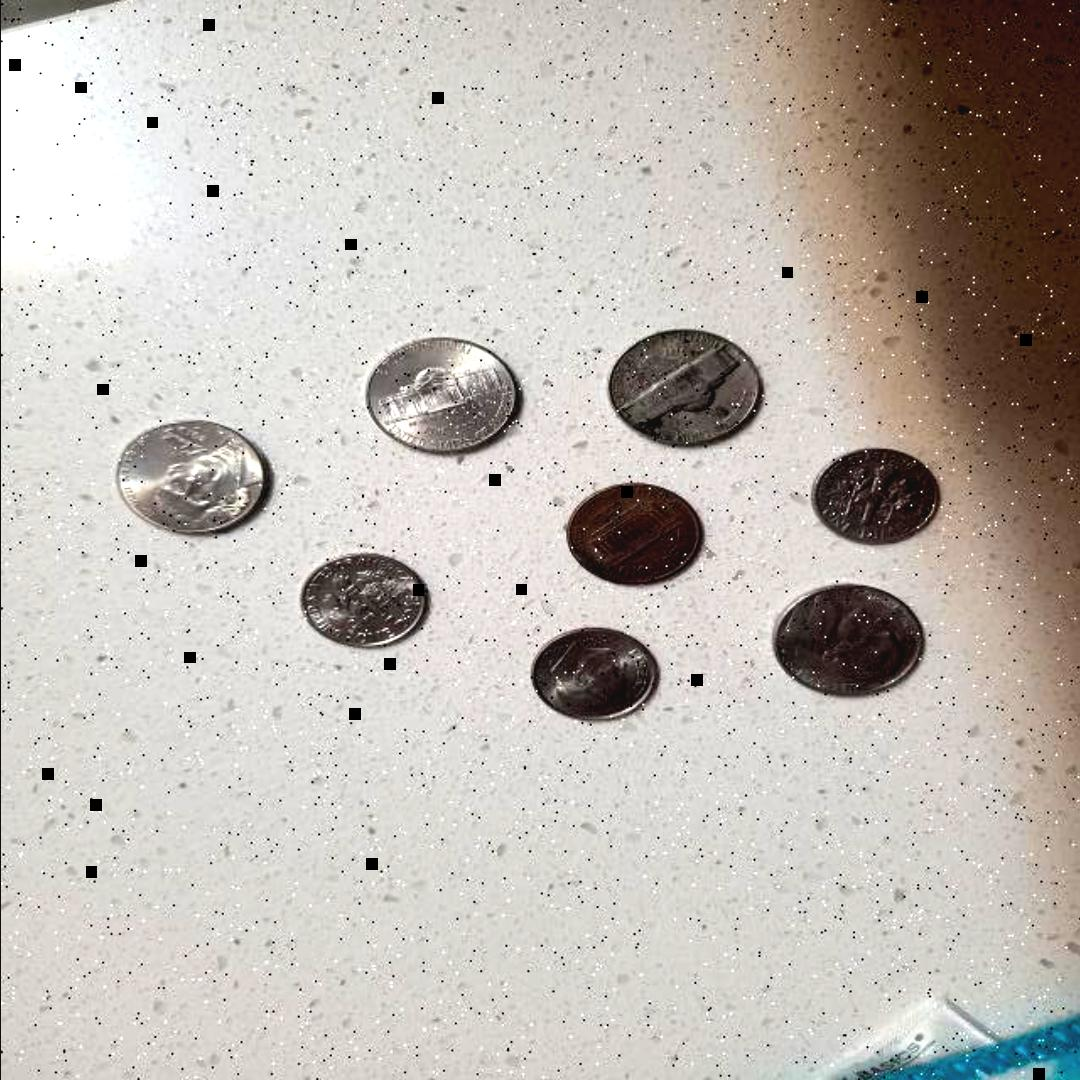Dime: (526, 625, 670, 727), (294, 552, 436, 653), (806, 448, 946, 550)
Nickel: (764, 578, 938, 702), (357, 332, 530, 456), (602, 326, 774, 450), (112, 418, 282, 540)
Penny: (561, 480, 709, 590)
